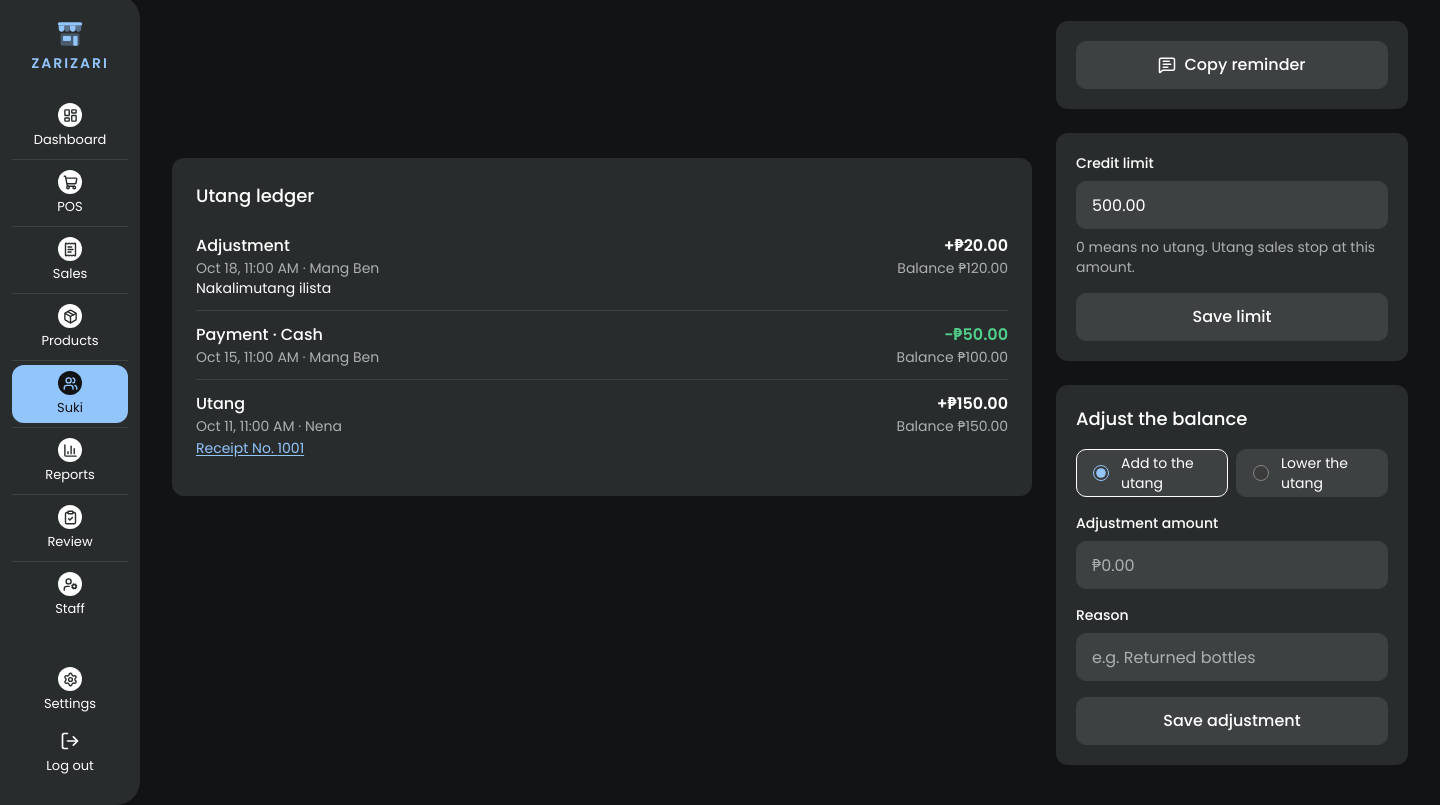
Test: suki ledger › lets the owner adjust the balance, with a reason
The width and height of the screenshot is (1440, 805).
(page scrolled)
Step 1. Click the radio button labelled "Lower the utang" → {"x": 1261, "y": 473}, box [1253, 465, 1269, 481]
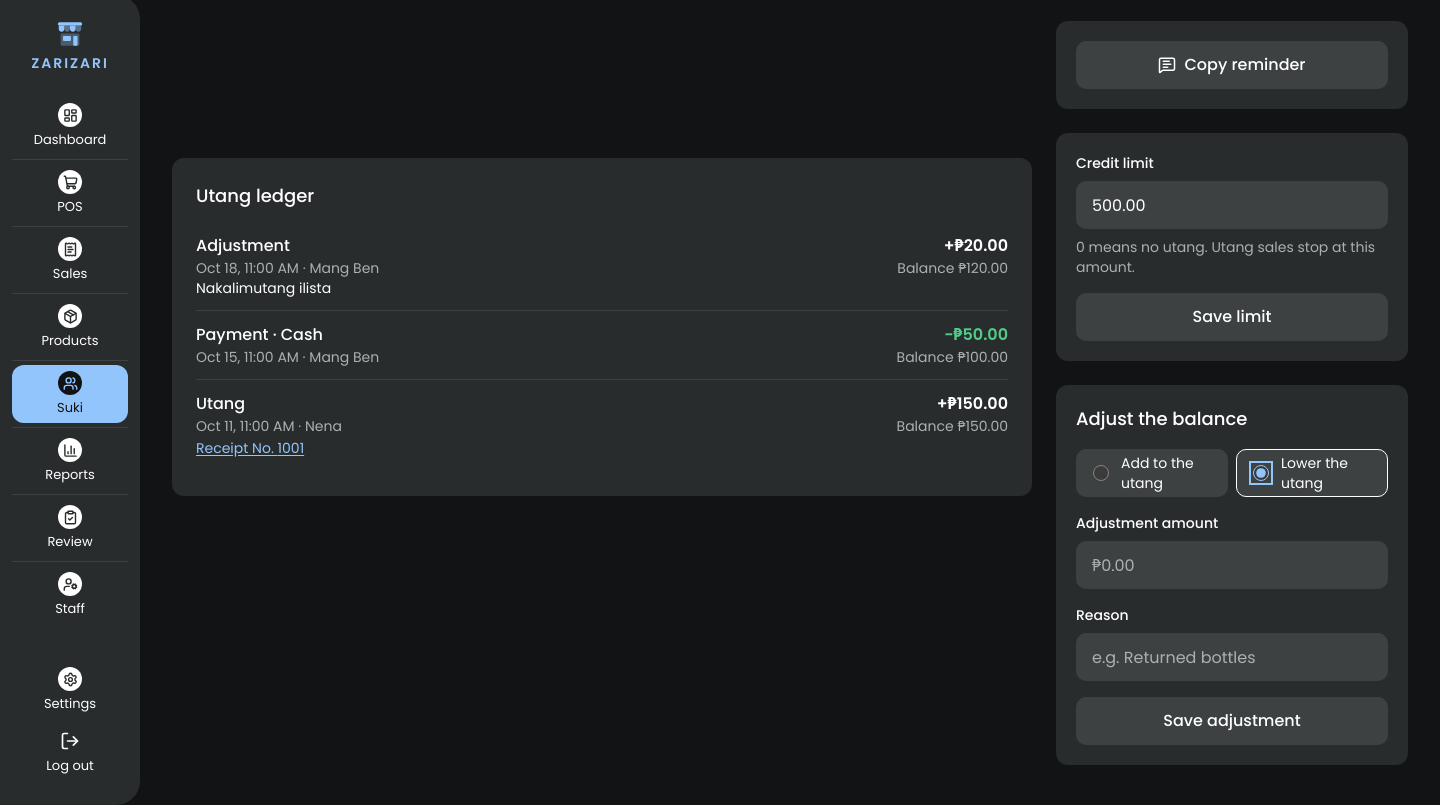
Step 2. Type "20" into the field labelled "Adjustment amount" → {"x": 1232, "y": 565}, box [1076, 541, 1388, 589]
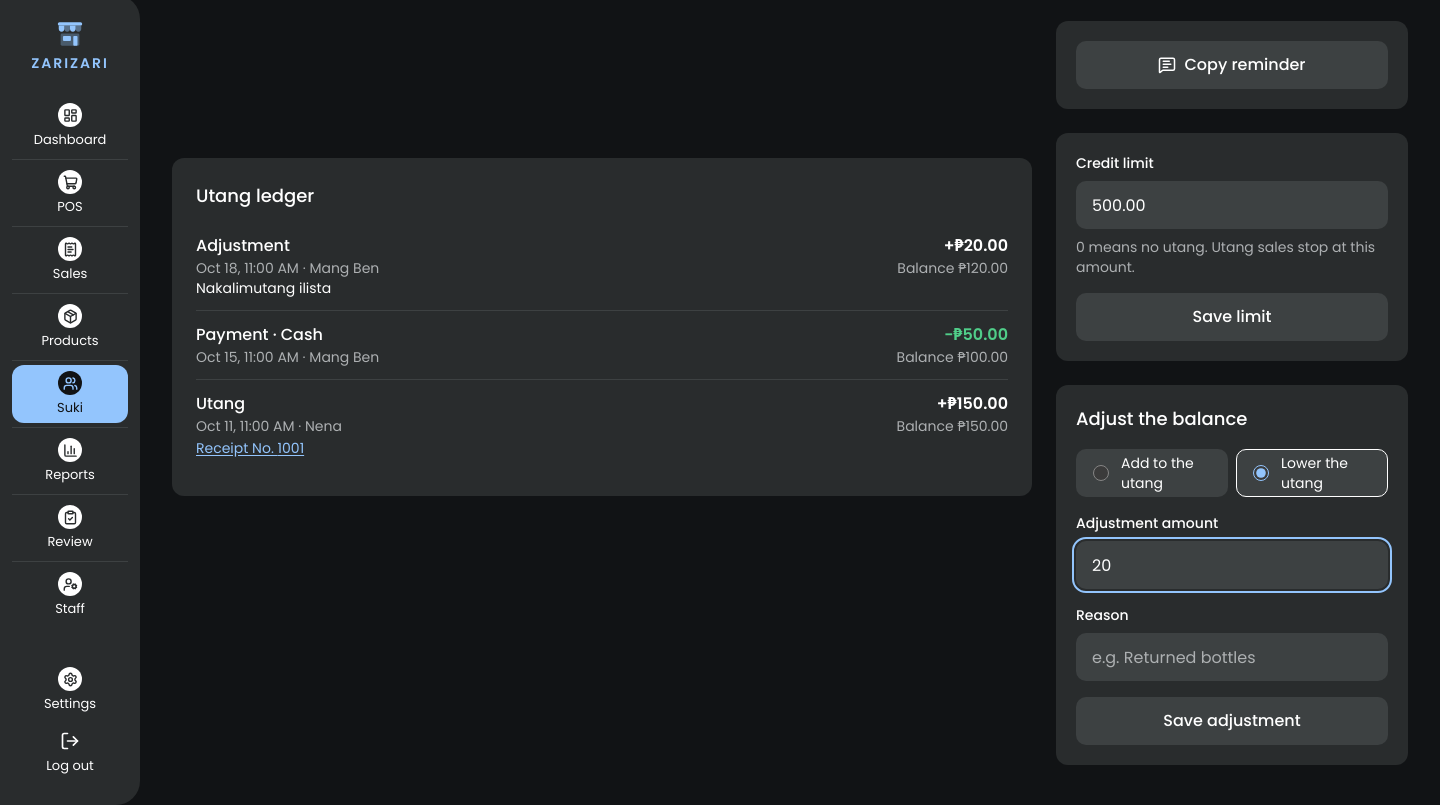
Step 3. Click the button "Save adjustment" → {"x": 1232, "y": 721}, box [1076, 697, 1388, 745]
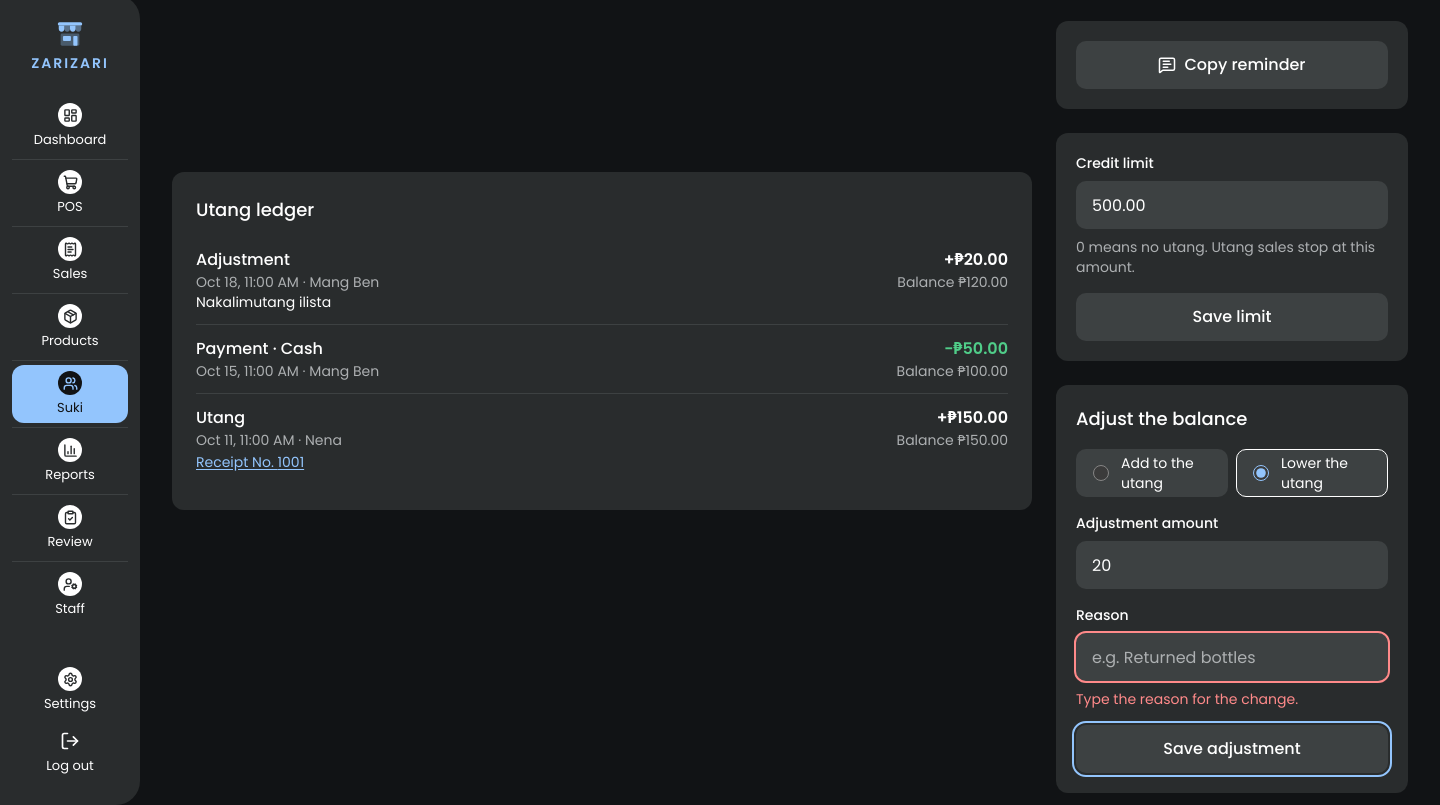
Step 4. Type "Sinauli ang bote" into the field labelled "Reason" → {"x": 1232, "y": 657}, box [1076, 633, 1388, 681]
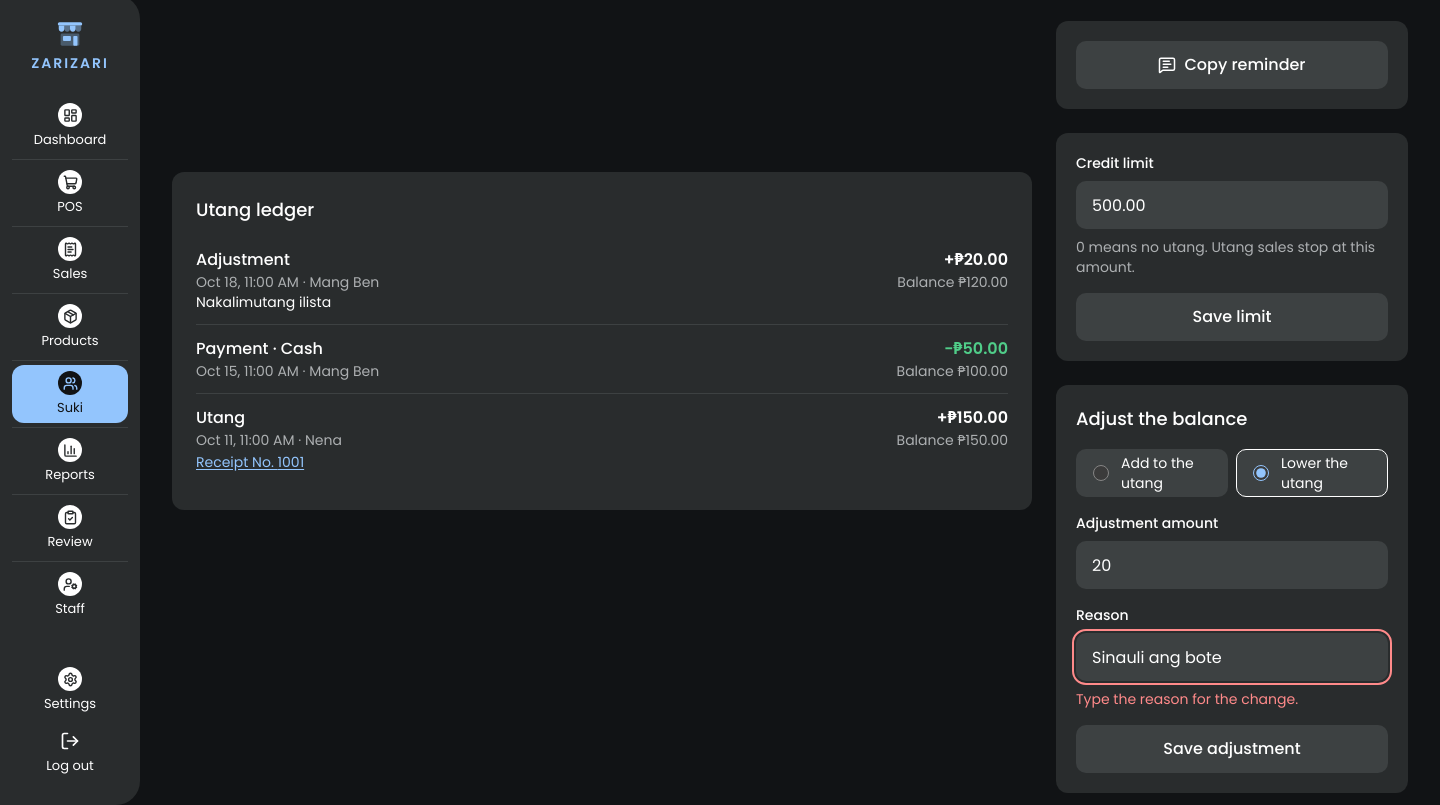
Step 5. Click the button "Save adjustment" → {"x": 1232, "y": 749}, box [1076, 725, 1388, 773]
(page scrolled)
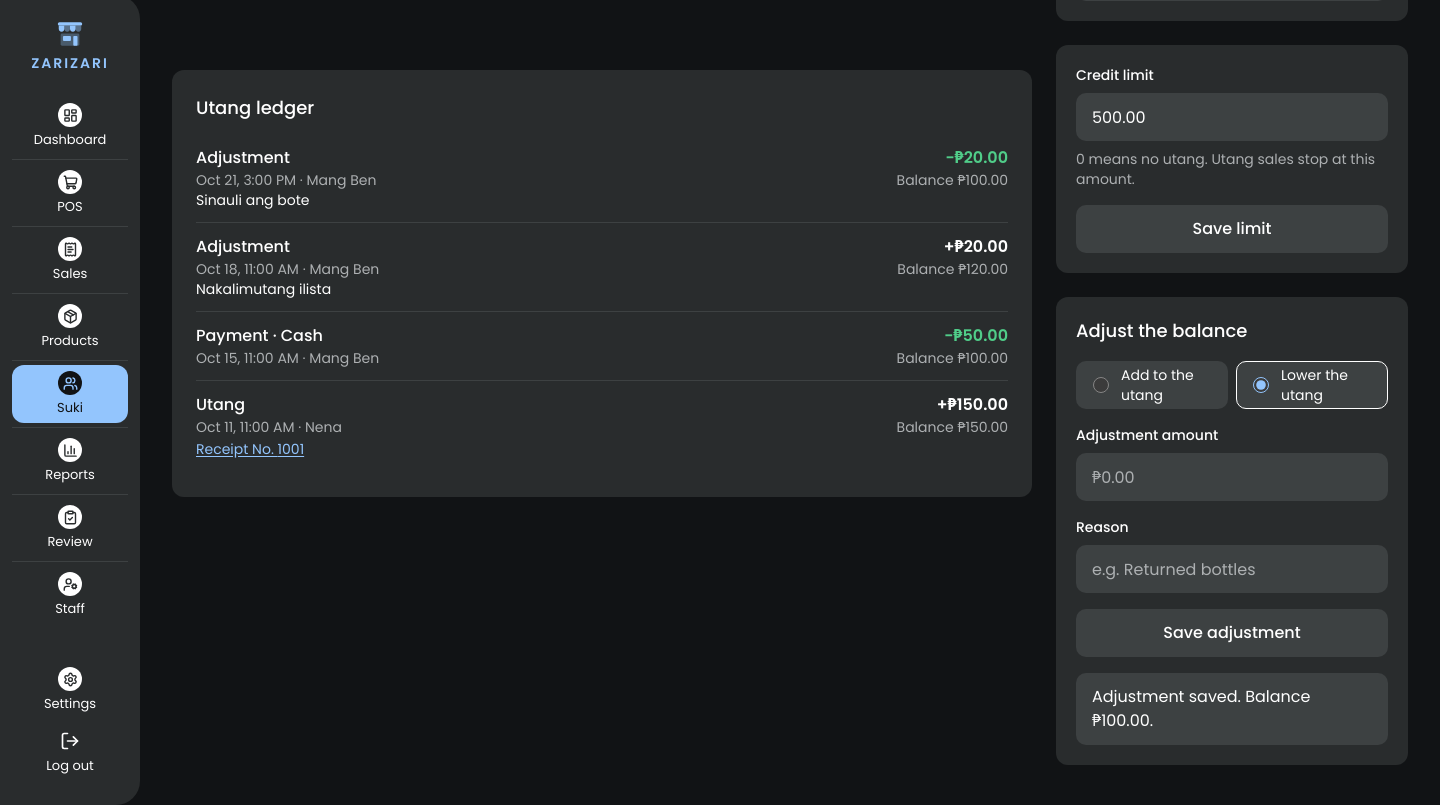
Expected: the text "Adjustment saved. Balance ₱100.00." is shown, [1076, 673, 1388, 745]
